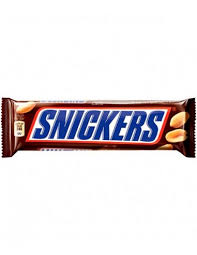snickers: (1, 95, 197, 160)
